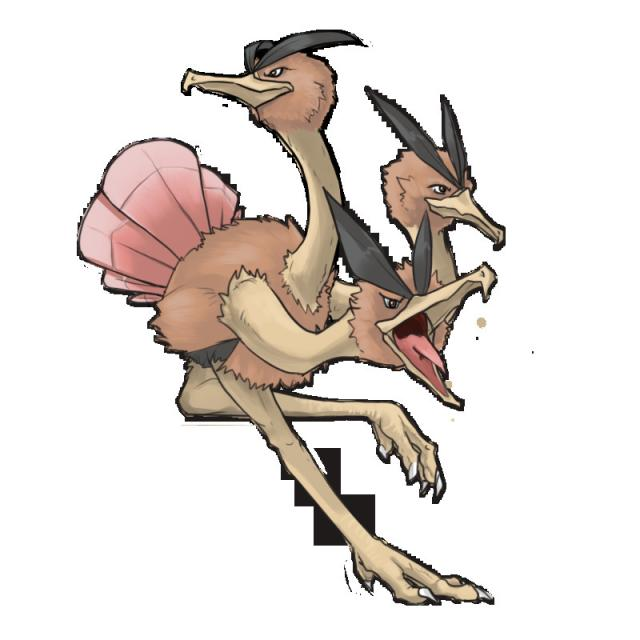Dodrio: (140, 17, 496, 487)
